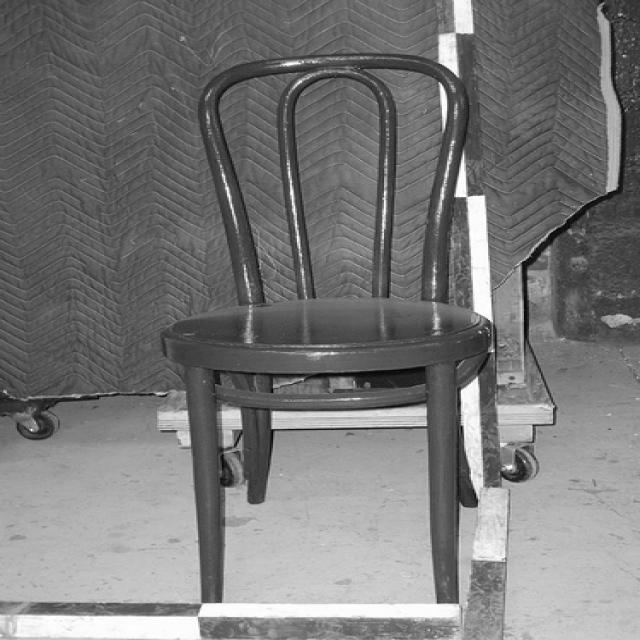chair: (158, 50, 501, 610)
